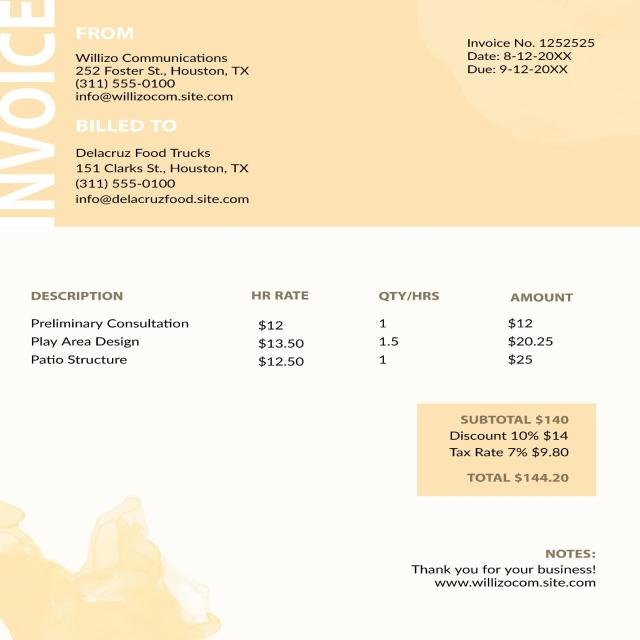paragraph: (71, 120, 262, 204), (73, 25, 260, 107), (441, 412, 582, 487), (408, 544, 602, 596), (458, 31, 596, 79)
table: (25, 291, 577, 376)
